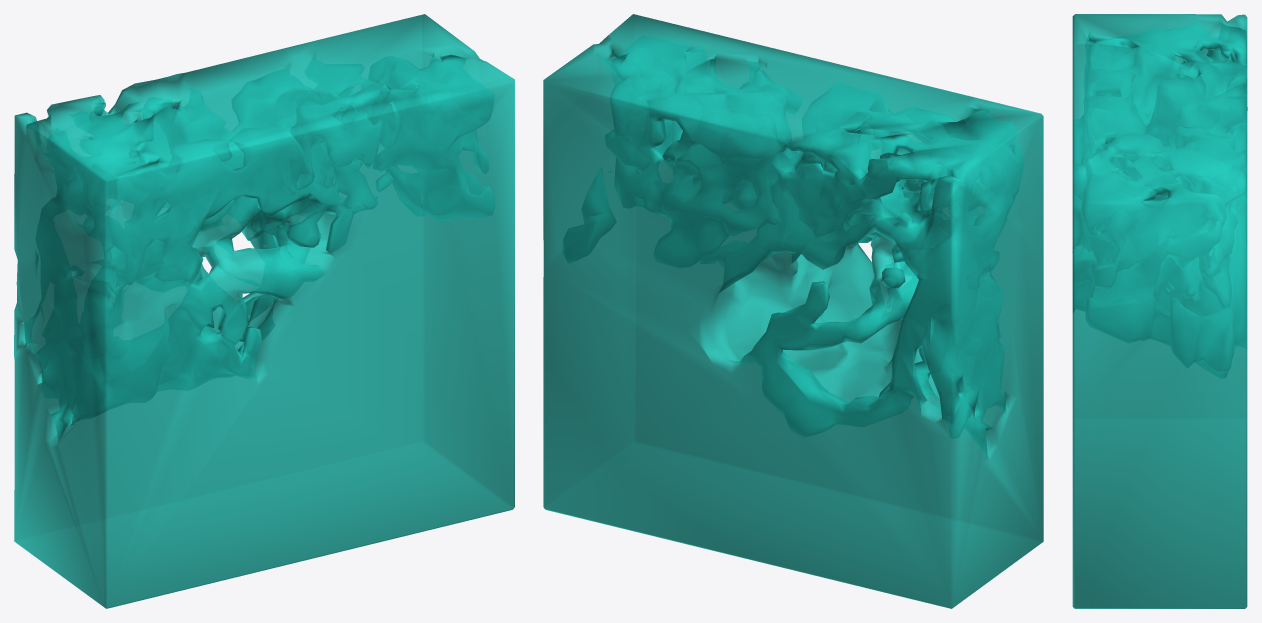
The picture shows the model from 3 angles, left to right: view 1: azimuth 30°, elevation 25°; view 2: azimuth 150°, elevation 25°; view 3: azimuth 270°, elevation 25°; orthographic projection. The views are drawn at different scales.
Visible parts, largest first — view 1: Liquid_Domain; view 2: Liquid_Domain; view 3: Liquid_Domain.
Part boxes in pixels (box(x1,y1,x2,y2)): Liquid_Domain: box(14, 14, 514, 608); Liquid_Domain: box(543, 14, 1043, 608); Liquid_Domain: box(1072, 14, 1247, 608).
Bounding box in the file's own units: 1965 × 1966 × 766.
